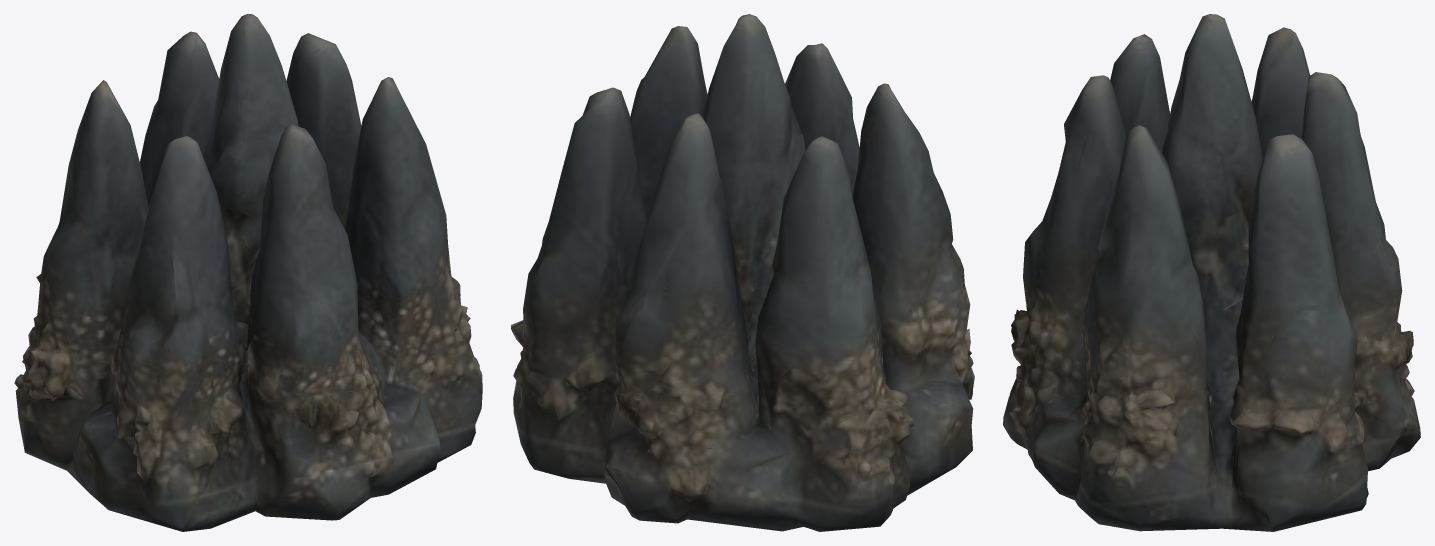
File: rescue-spire.glb
The picture shows the model from 3 angles, left to right: view 1: azimuth 30°, elevation 25°; view 2: azimuth 150°, elevation 25°; view 3: azimuth 270°, elevation 25°; orthographic projection.
Parts seen in each view (by area): view 1: Mesh_0; view 2: Mesh_0; view 3: Mesh_0.
Boxes of the visible parts, bbox=[...] form: Mesh_0: bbox=[14, 14, 482, 531]; Mesh_0: bbox=[511, 14, 974, 531]; Mesh_0: bbox=[1003, 14, 1420, 531].
Size of the model in its own units: 1.79 by 1.9 by 1.67.
Materials: 1 (1 with a texture image).
